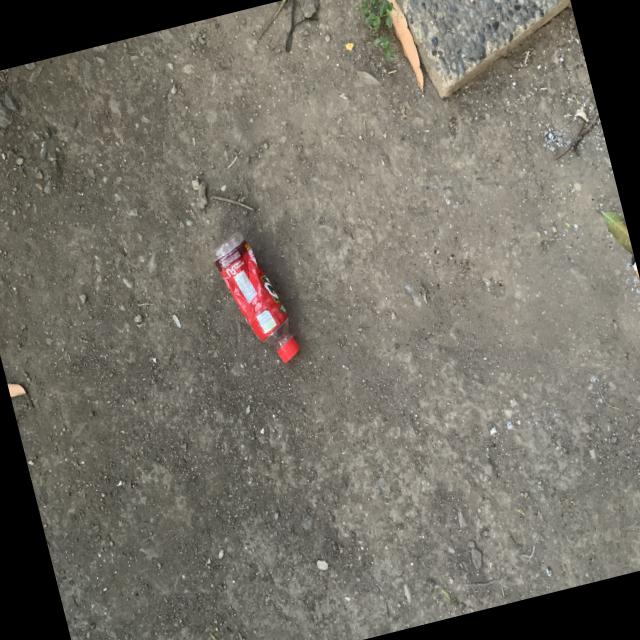Bottle: (213, 233, 298, 362)
